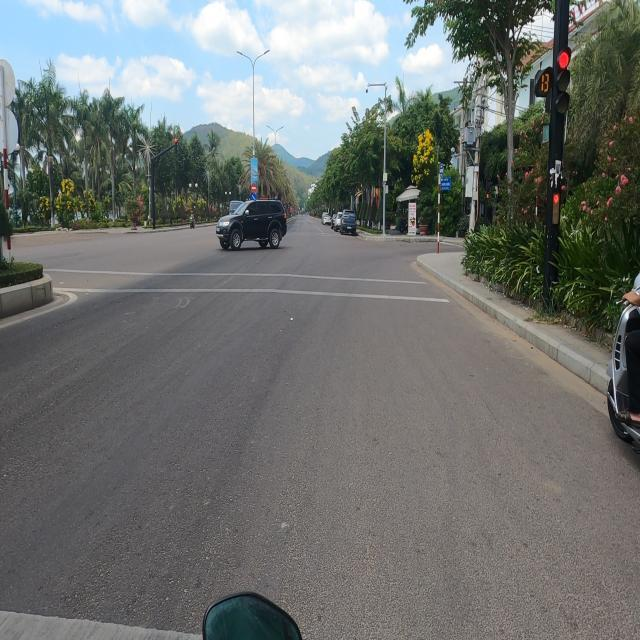walk-crossing: (77, 268, 450, 300)
